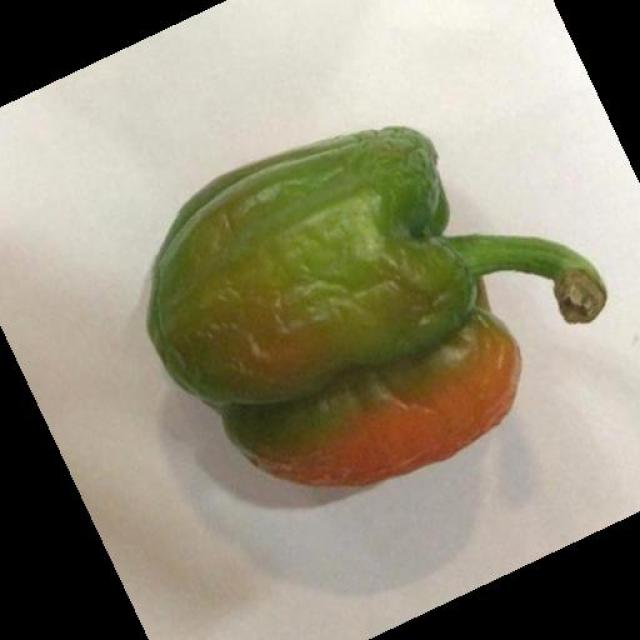Stale_Capsicum: (136, 136, 586, 476)
